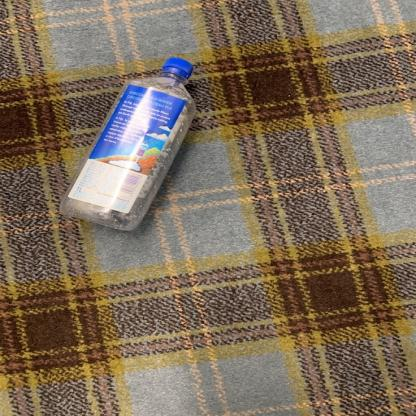trash: (55, 56, 200, 232)
